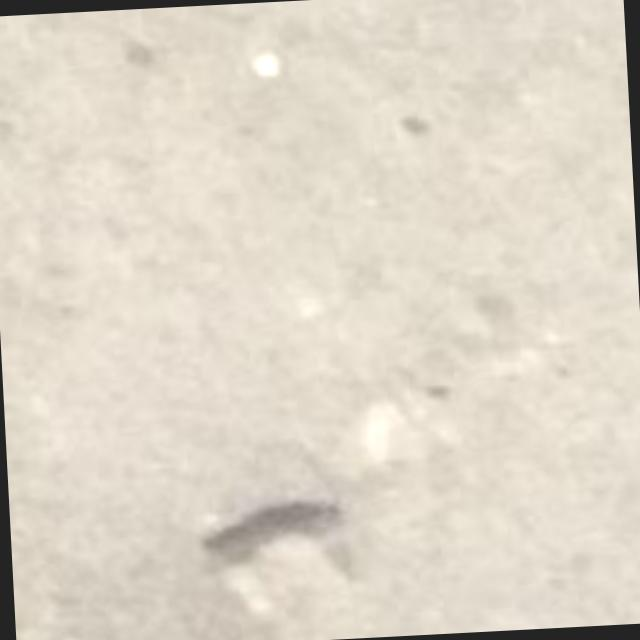peeling plaster: (203, 501, 343, 565)
